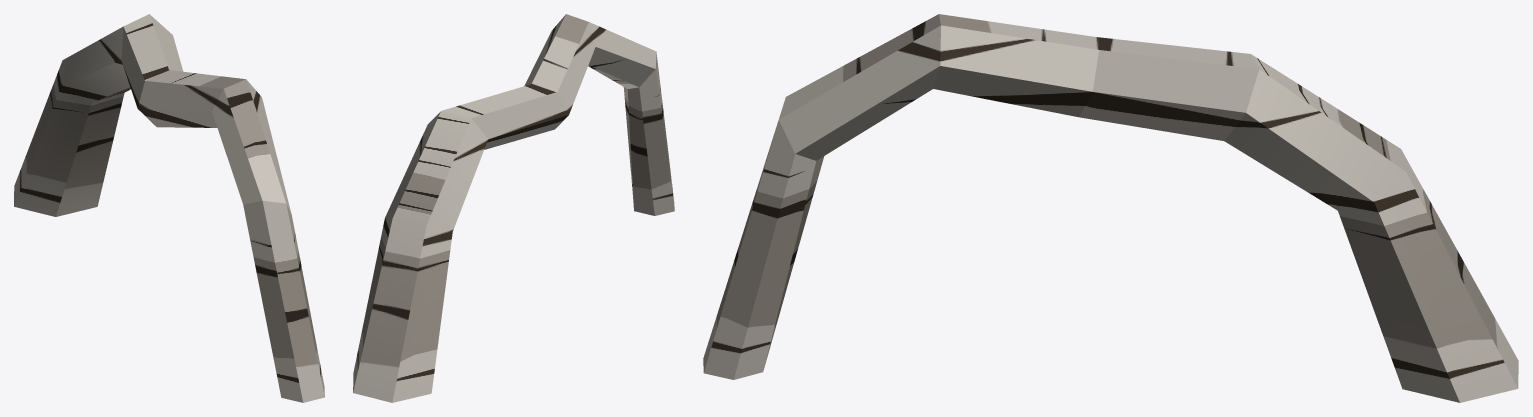
File: synty-swamp-root-01.gltf
3 renders of one model, left to right at view 1: azimuth 30°, elevation 25°; view 2: azimuth 150°, elevation 25°; view 3: azimuth 270°, elevation 25°, orthographic. The views are drawn at different scales.
Parts seen in each view (by area): view 1: SM_Swamp_Root_01; view 2: SM_Swamp_Root_01; view 3: SM_Swamp_Root_01.
Boxes of the visible parts, <box> form: SM_Swamp_Root_01: <box>14,14,324,402</box>; SM_Swamp_Root_01: <box>353,14,674,402</box>; SM_Swamp_Root_01: <box>703,14,1518,402</box>.
Size of the model in its own units: 0.1875 by 0.4831 by 1.01.
Materials: 1 (1 with a texture image).
